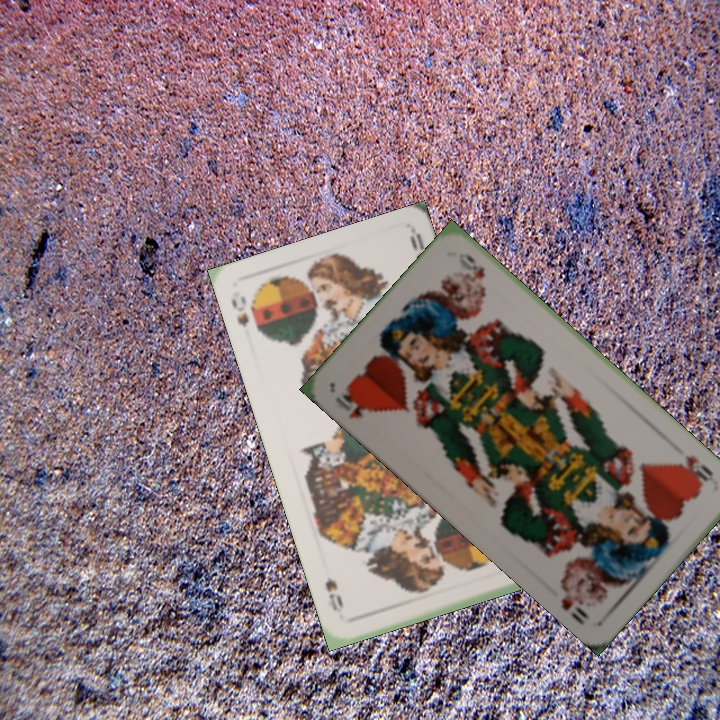HO: (674, 450, 716, 488), (331, 385, 374, 422)
SO: (227, 292, 252, 330)
